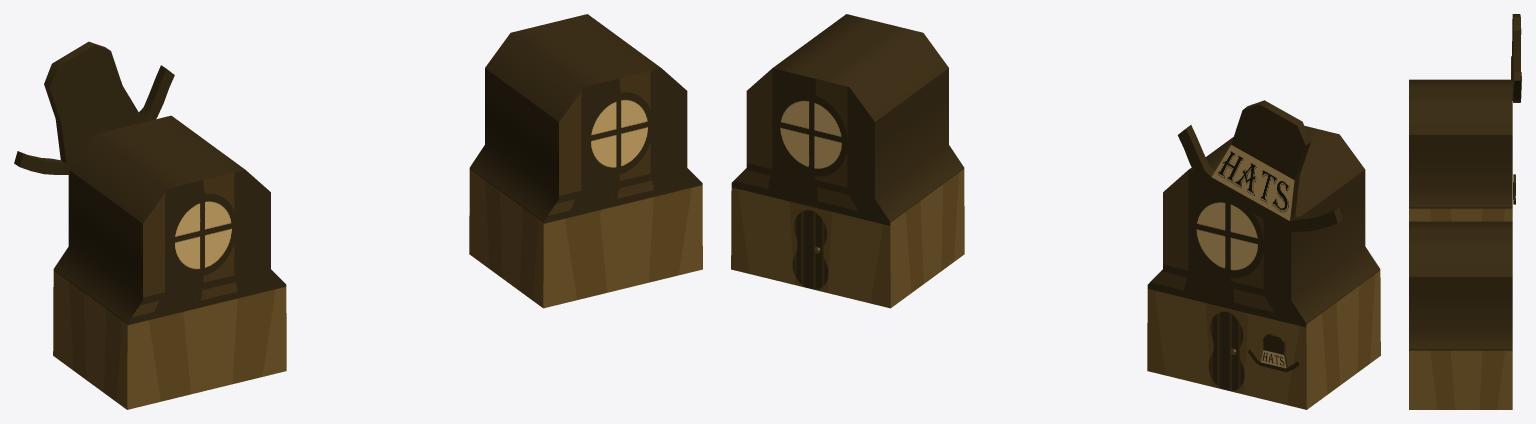
The model's file is huis2.fbx.
3 renders of one model, left to right at view 1: azimuth 30°, elevation 25°; view 2: azimuth 150°, elevation 25°; view 3: azimuth 270°, elevation 25°, orthographic. The views are drawn at different scales.
Parts seen in each view (by area): view 1: huis2; view 2: huis2; view 3: huis2.
Part boxes in pixels (x1=…): huis2: x1=14, y1=14, x2=702, y2=409; huis2: x1=731, y1=14, x2=1380, y2=409; huis2: x1=1409, y1=14, x2=1521, y2=409.
Size of the model in its own units: 0.111 by 0.0521 by 0.0254.
Materials: 1 (1 with a texture image).
